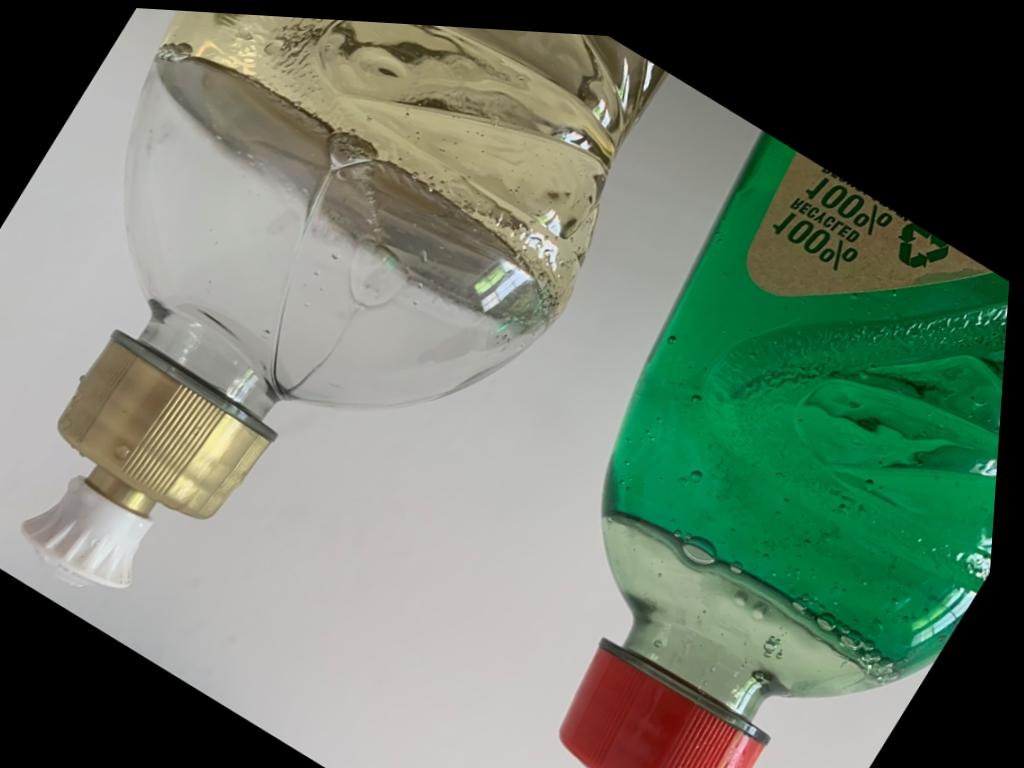plastic: (0, 12, 702, 762), (561, 137, 1007, 767)
